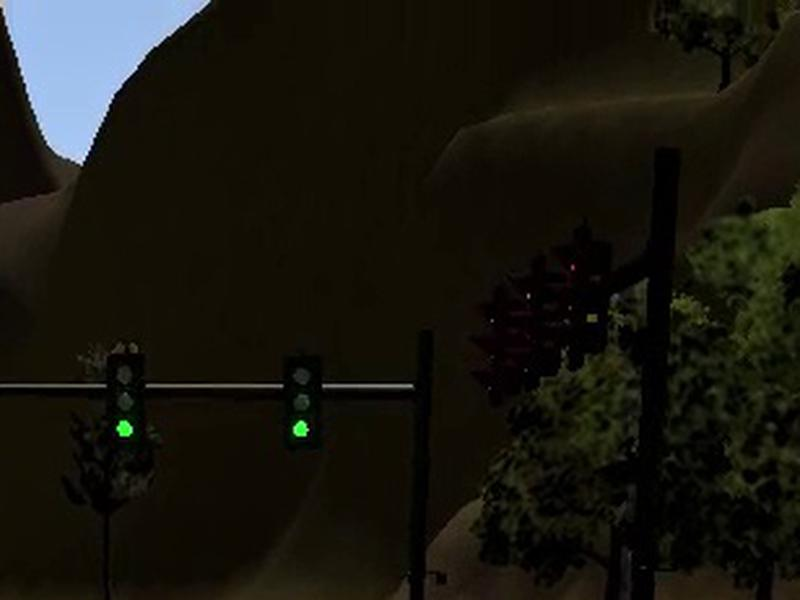Green: (106, 353, 147, 445), (283, 355, 322, 451)
